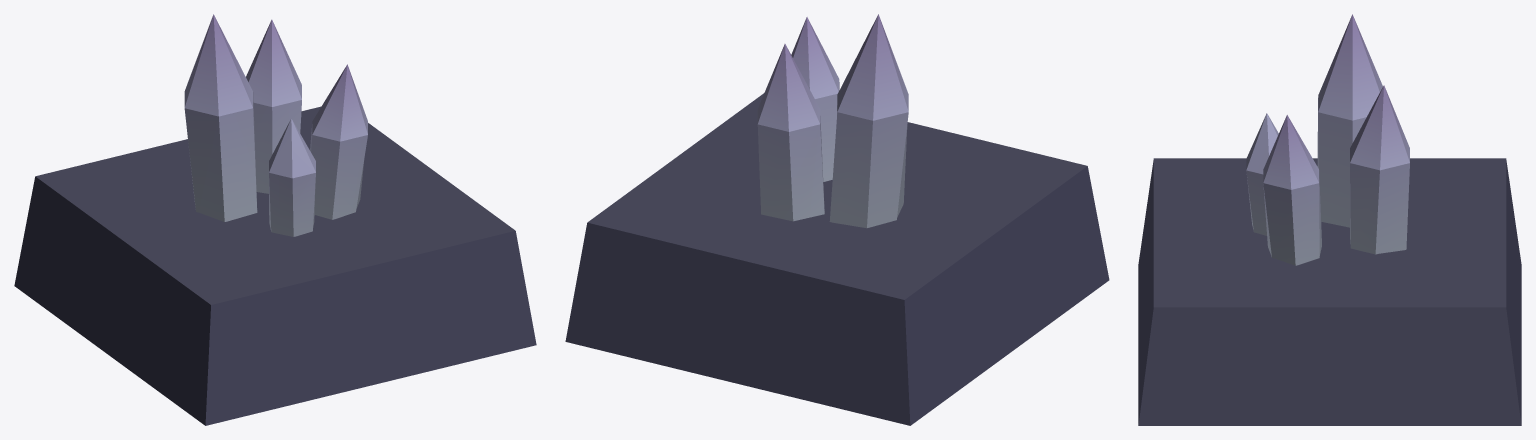
The model's file is Rocks_Ore_Starite_v0_CuboidBlue.glb.
3 views of the same model, side by side, from view 1: azimuth 30°, elevation 25°; view 2: azimuth 150°, elevation 25°; view 3: azimuth 270°, elevation 25° (orthographic). The views are drawn at different scales.
Parts seen in each view (by area): view 1: v0; view 2: v0; view 3: v0.
Part boxes in pixels (bbox=[...]): v0: bbox=[14, 14, 536, 425]; v0: bbox=[565, 14, 1109, 425]; v0: bbox=[1138, 14, 1521, 425].
Bounding box in the file's own units: 1.7 × 1.5 × 1.7.
